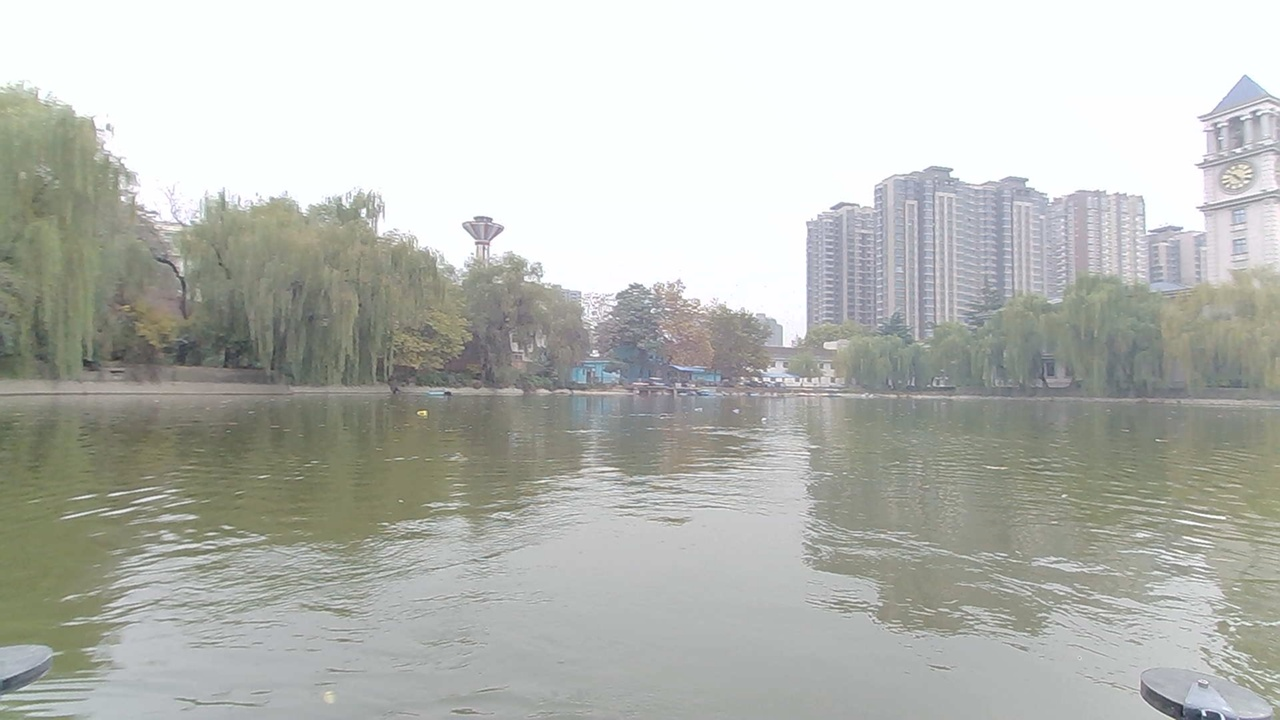bottle: (409, 402, 438, 423), (688, 398, 710, 418), (727, 402, 750, 420), (753, 412, 775, 428)
